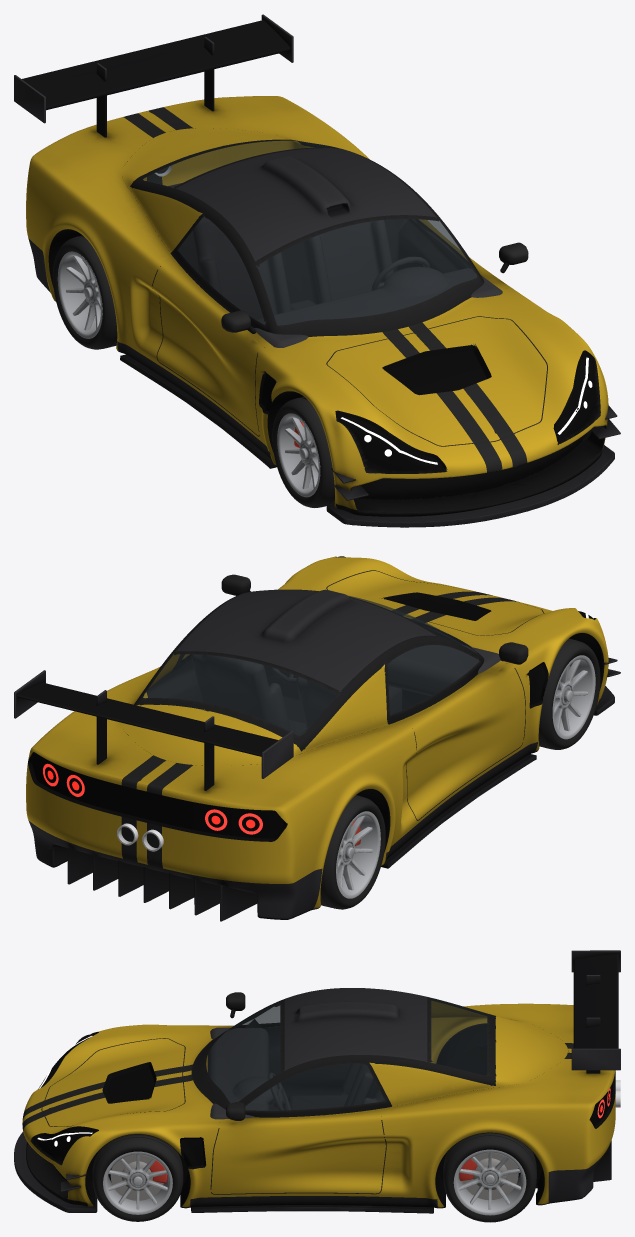
The model's file is zephyr.glb.
3 views of the same model, one above another, from view 1: azimuth 30°, elevation 25°; view 2: azimuth 150°, elevation 25°; view 3: azimuth 270°, elevation 25° (orthographic). The views are drawn at different scales.
Visible parts, largest first — view 1: body, wheel_rr_mesh, wheel_fr_mesh; view 2: body, wheel_rr_mesh, wheel_fr_mesh; view 3: body, wheel_rl_mesh, wheel_fl_mesh.
Part boxes in pixels (left/top/right/bottom): body: left=14, top=14, right=620, bottom=527; wheel_rr_mesh: left=53, top=235, right=117, bottom=349; wheel_fr_mesh: left=272, top=396, right=334, bottom=507; body: left=14, top=556, right=620, bottom=921; wheel_rr_mesh: left=320, top=795, right=385, bottom=909; wheel_fr_mesh: left=538, top=638, right=600, bottom=749; body: left=14, top=950, right=620, bottom=1213; wheel_rl_mesh: left=443, top=1133, right=536, bottom=1222; wheel_fl_mesh: left=92, top=1134, right=183, bottom=1221.
Bounding box in the file's own units: 2.02 × 1.37 × 4.34.
